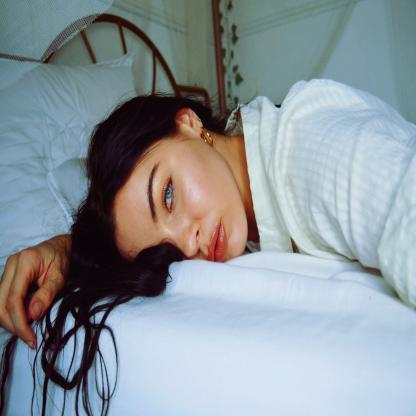Eye: (159, 176, 179, 220)
Mouth: (206, 214, 229, 262)
Nose: (170, 221, 202, 259)
